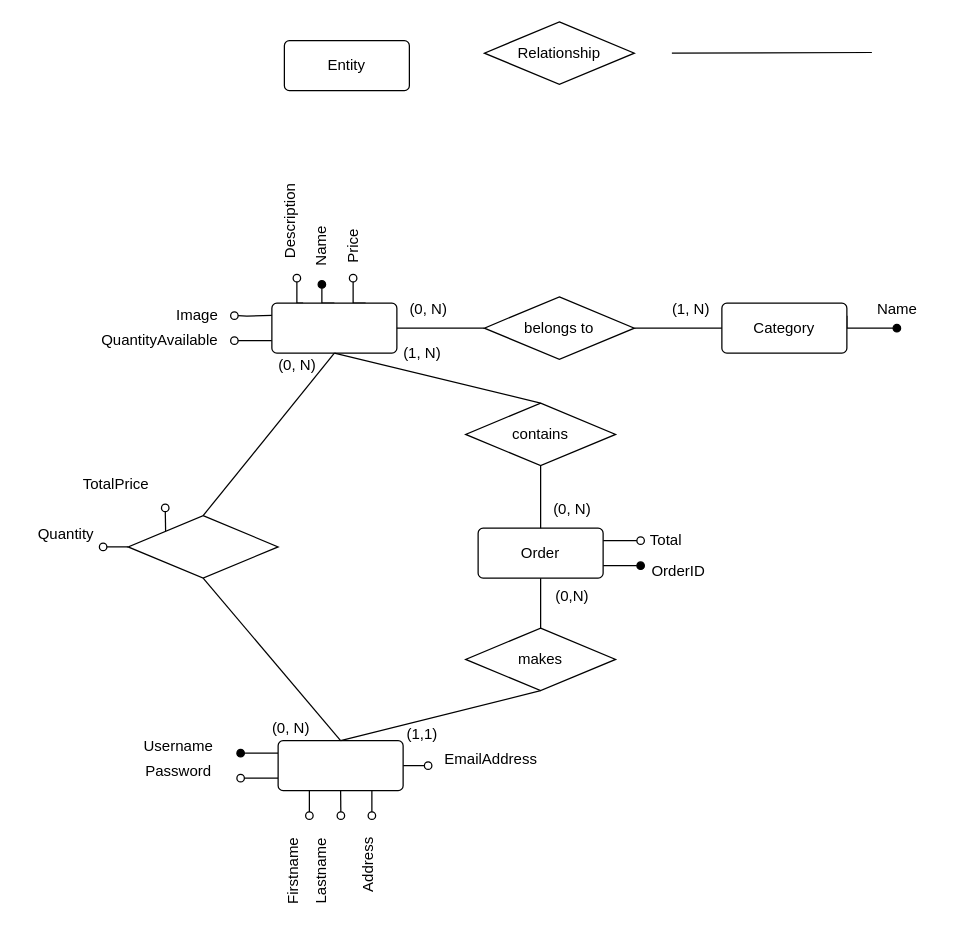
Some shapes in this 955 by 944 pixel diagram are drawn without their labels. The centre of each missing label's shape, as x and y in pixels:
"Product" goes at point 334,327.
"Puts in Cart" goes at point 202,546.
"User" goes at point 340,765.
